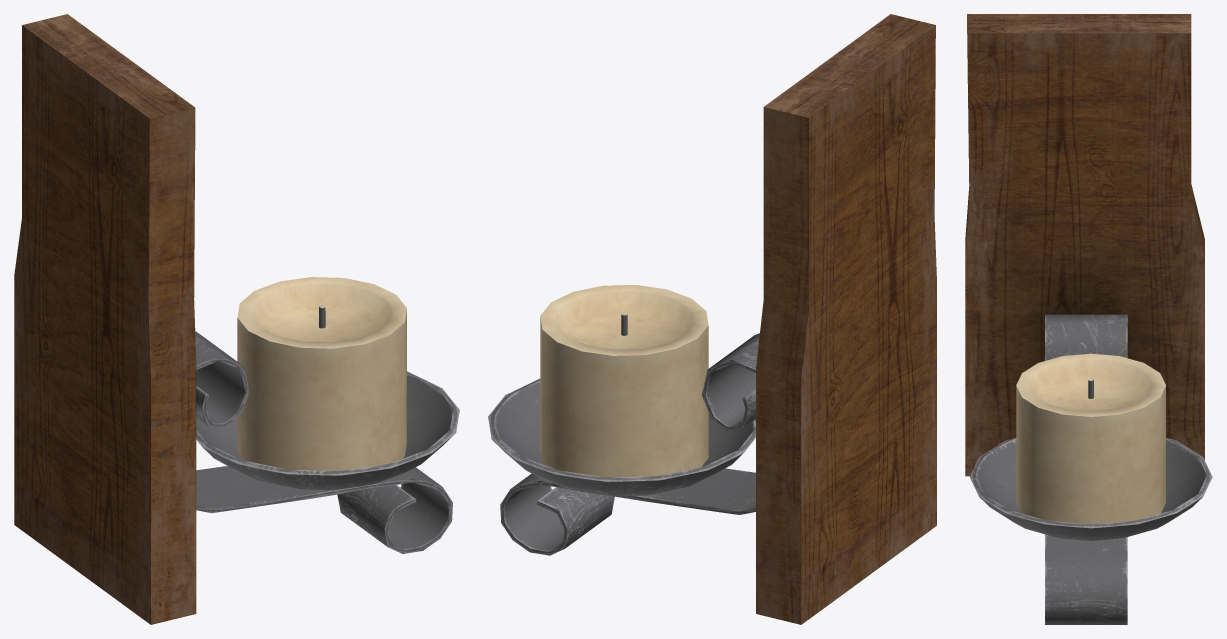
File: sconce-renaissance.glb
The picture shows the model from 3 angles, left to right: view 1: azimuth 30°, elevation 25°; view 2: azimuth 150°, elevation 25°; view 3: azimuth 270°, elevation 25°; orthographic projection. The views are drawn at different scales.
Parts seen in each view (by area): view 1: Wood_low, Candle_low, Metal_low, Bowl_low; view 2: Wood_low, Candle_low, Metal_low, Bowl_low; view 3: Wood_low, Candle_low, Metal_low, Bowl_low.
Part boxes in pixels (left/top/right/bottom): Wood_low: left=14, top=14, right=196, bottom=624; Candle_low: left=237, top=277, right=406, bottom=470; Metal_low: left=195, top=331, right=452, bottom=553; Bowl_low: left=196, top=371, right=459, bottom=490; Wood_low: left=756, top=14, right=936, bottom=624; Candle_low: left=540, top=285, right=708, bottom=477; Metal_low: left=500, top=333, right=759, bottom=555; Bowl_low: left=488, top=378, right=755, bottom=496; Wood_low: left=965, top=14, right=1204, bottom=476; Candle_low: left=1016, top=353, right=1165, bottom=524; Metal_low: left=1045, top=314, right=1127, bottom=624; Bowl_low: left=970, top=437, right=1212, bottom=540.
Size of the model in its own units: 0.3924 by 0.5595 by 0.2641.
1 material, 1 textured.
